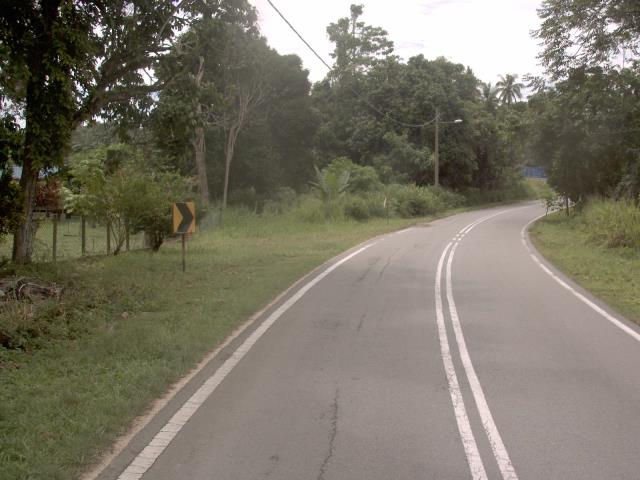traffic_sign: (165, 193, 203, 243)
